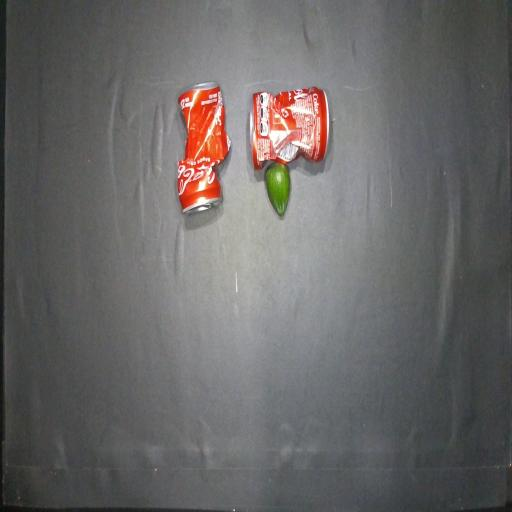higo: (265, 163, 290, 216)
lata_defectuoso: (177, 82, 230, 212), (250, 87, 330, 169)
